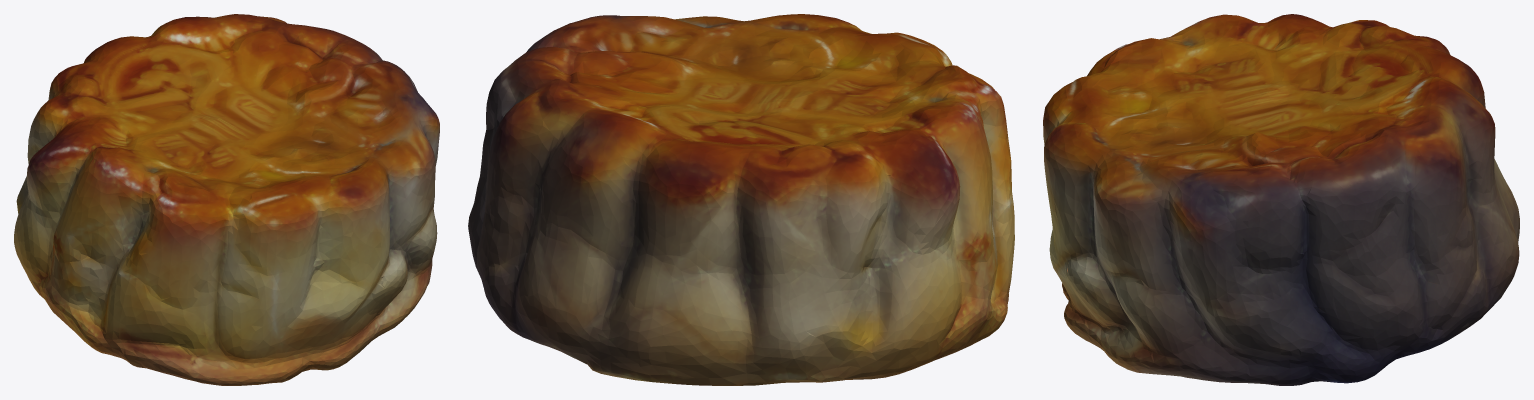
Rendered from banhtrungthu.glb.
3 renders of one model, left to right at view 1: azimuth 30°, elevation 25°; view 2: azimuth 150°, elevation 25°; view 3: azimuth 270°, elevation 25°, orthographic. The views are drawn at different scales.
Parts seen in each view (by area): view 1: world; view 2: world; view 3: world.
Boxes of the visible parts, bbox=[...] form: world: bbox=[14, 14, 439, 385]; world: bbox=[468, 14, 1014, 385]; world: bbox=[1043, 14, 1519, 385].
Size of the model in its own units: 0.715 by 0.4094 by 0.7039.
1 material, 1 textured.
